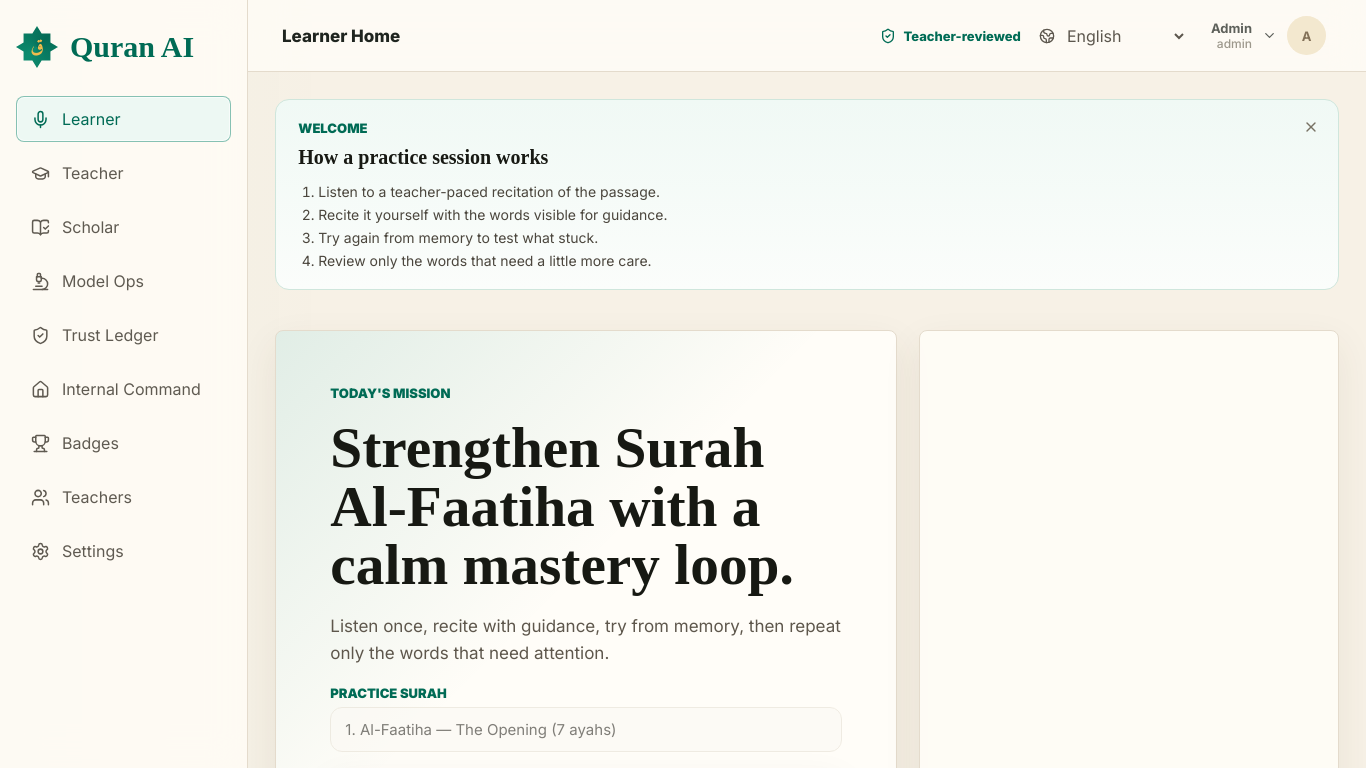
Quran AI app smoke › greets a brand-new learner with onboarding + an invitation, not a wall of zeros
Click the button with class "onboarding-dismiss". click: (1311, 127)
box: [1296,112,1326,142]
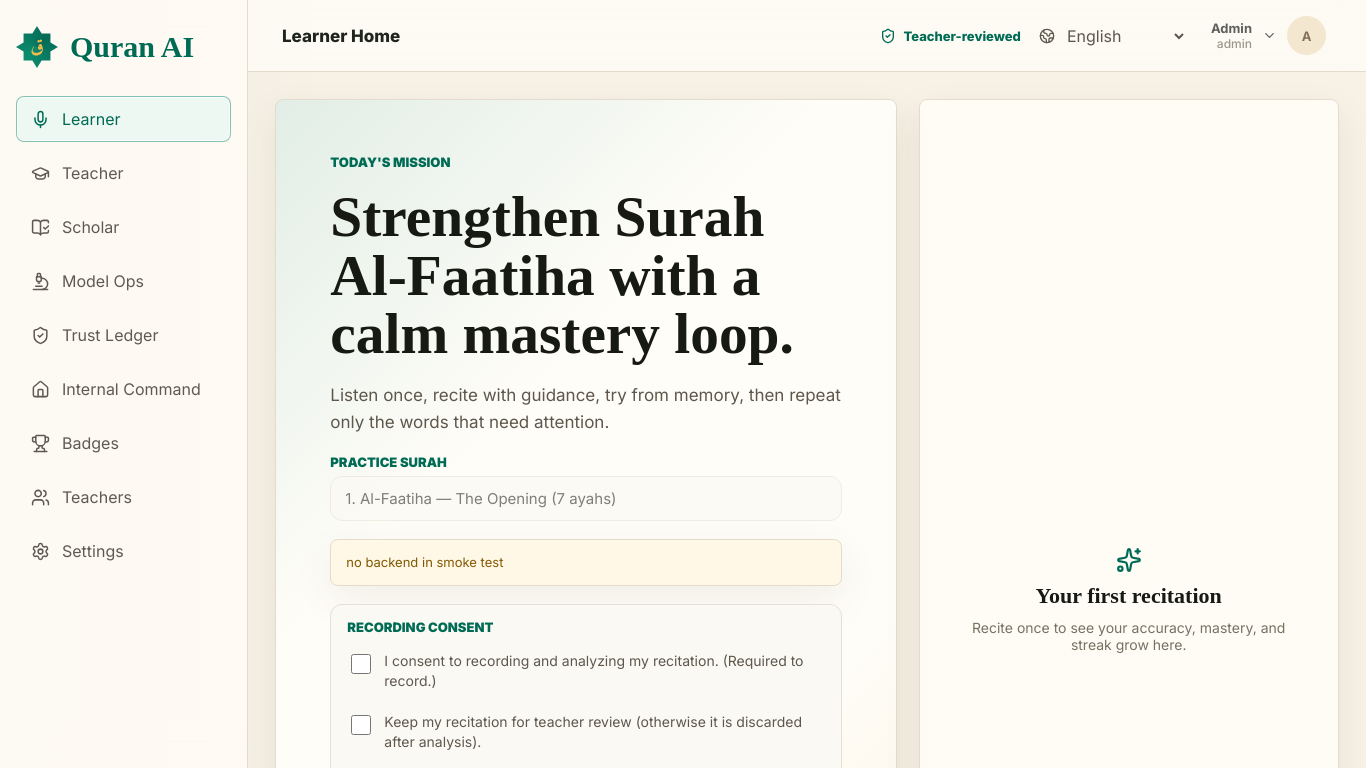
Check: the element with class "onboarding-card" is gone
